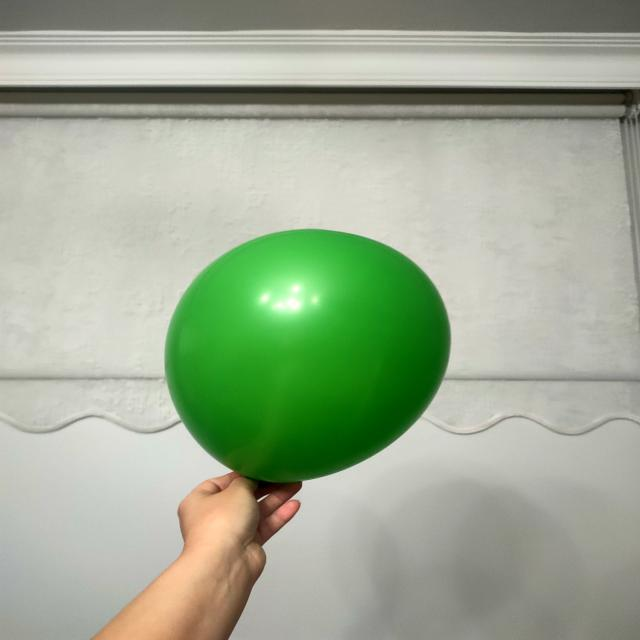green: (166, 229, 454, 483)
